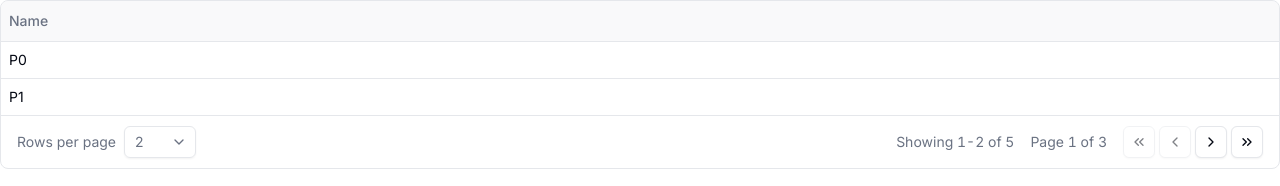
Test: DataTable pagination › client mode slices rows and advances pages
Check: the text with test id "pagination-range" reads "Showing 1-2 of 5", box 896,132 -> 1014,150
Click the button with test id "pagination-next". click: (1211, 142)
box: 1195,126 -> 1227,158
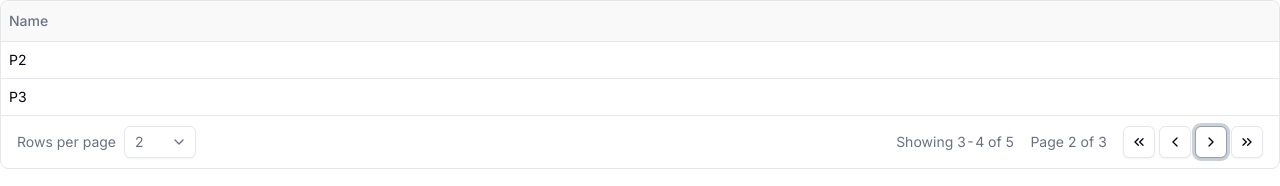
Check: the text with test id "pagination-range" reads "Showing 3-4 of 5", box 896,132 -> 1014,150
